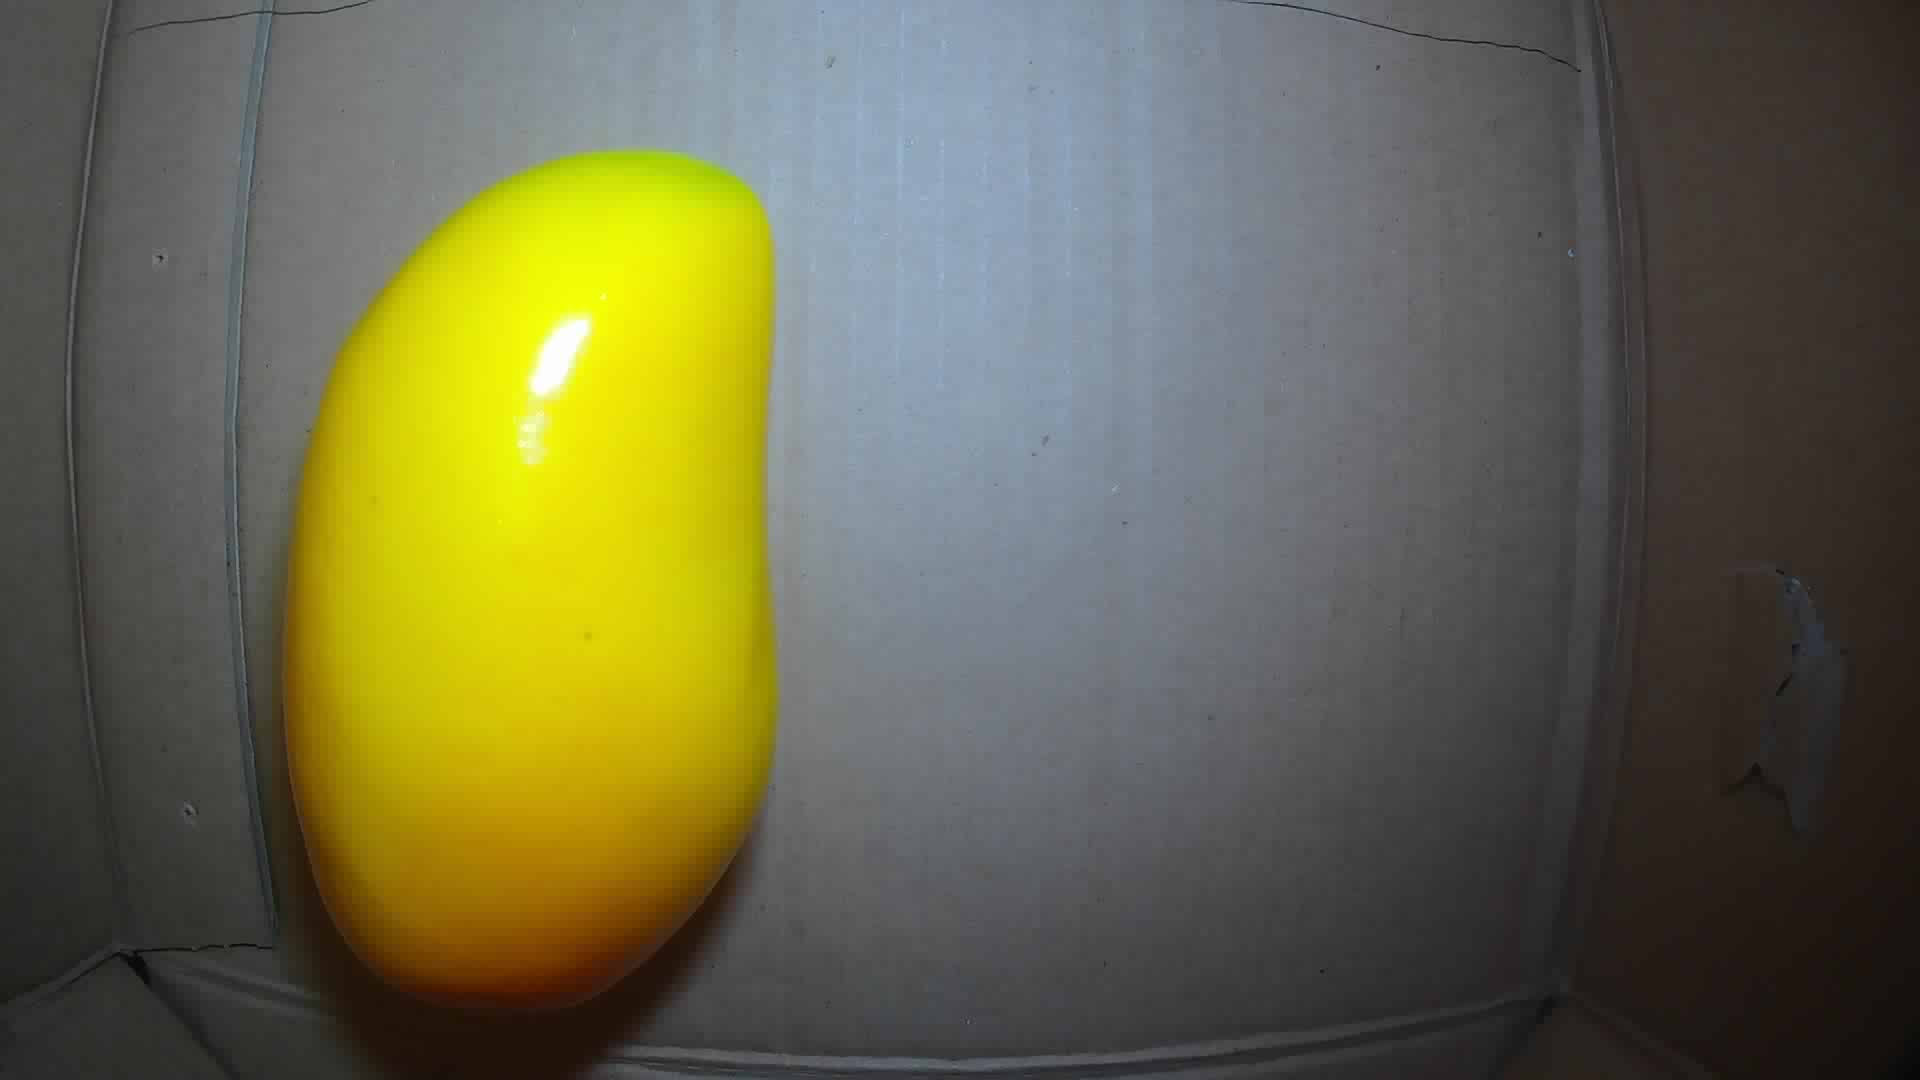mango: (277, 142, 775, 1004)
